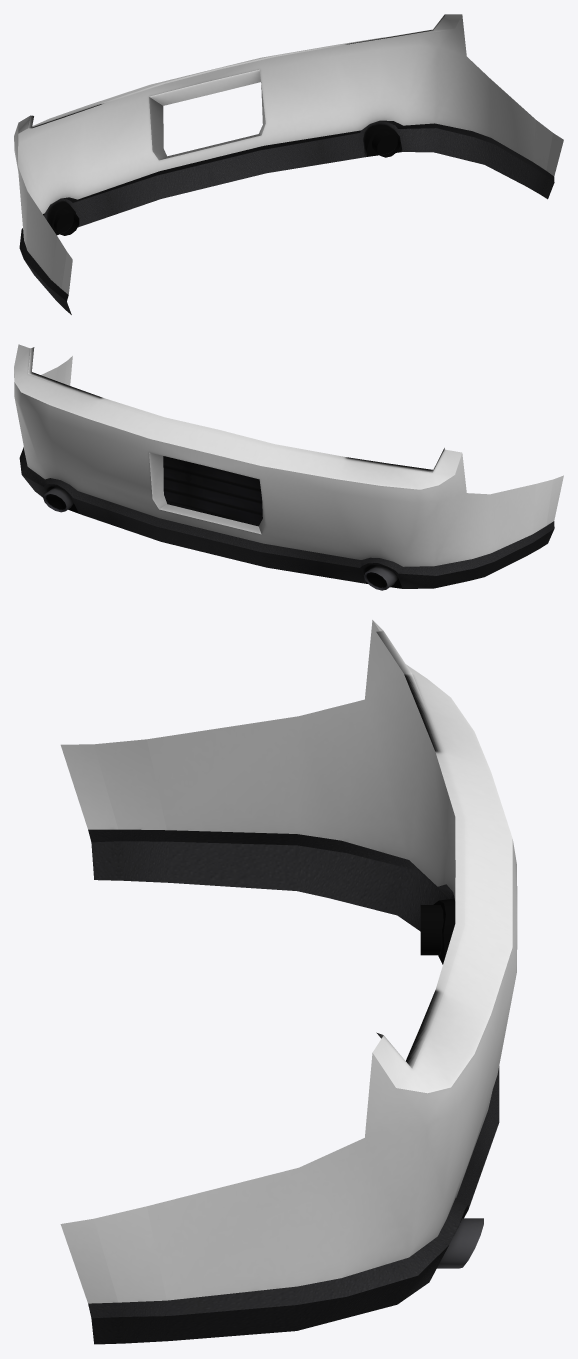
The model's file is Sport_03_Bumper_B_1.fbx.
3 renders of one model, top to bottom at view 1: azimuth 30°, elevation 25°; view 2: azimuth 150°, elevation 25°; view 3: azimuth 270°, elevation 25°, orthographic. The views are drawn at different scales.
Visible parts, largest first — view 1: Sport_03_Bumper_B_1; view 2: Sport_03_Bumper_B_1; view 3: Sport_03_Bumper_B_1.
Part boxes in pixels (x1,y1,x2,y2): Sport_03_Bumper_B_1: (14,14,563,314); Sport_03_Bumper_B_1: (14,344,563,590); Sport_03_Bumper_B_1: (60,620,517,1344).
Bounding box in the file's own units: 210 × 57.14 × 84.47.
